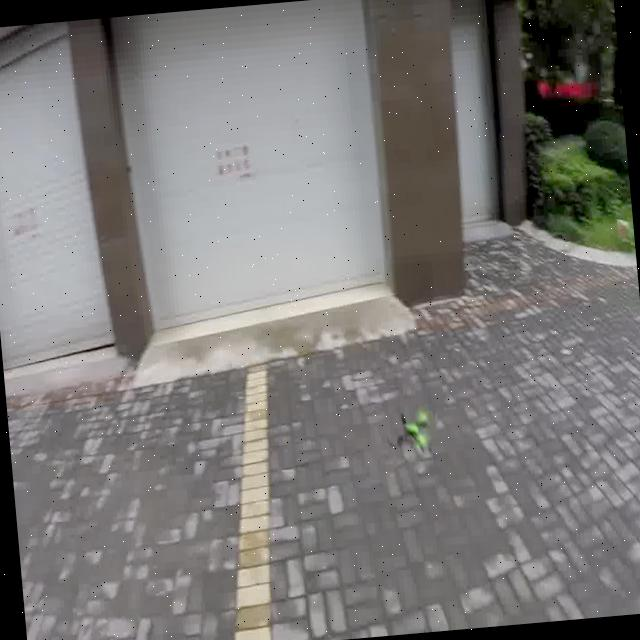drone: (384, 385, 442, 472)
